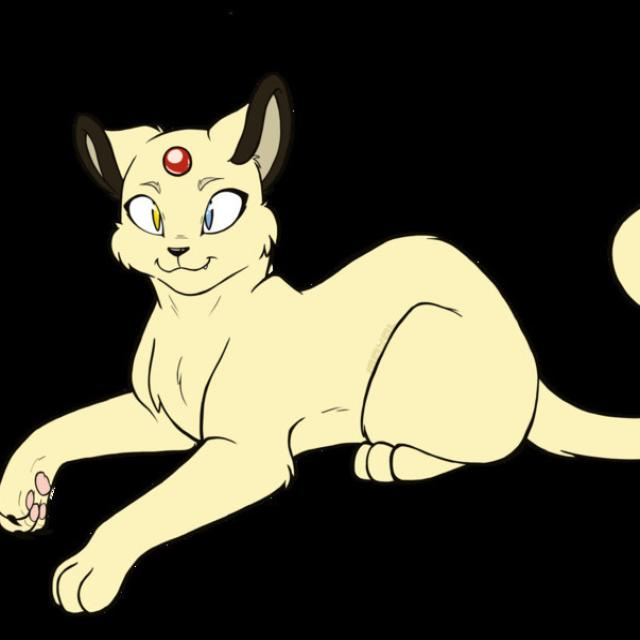Persian: (31, 102, 562, 508)
